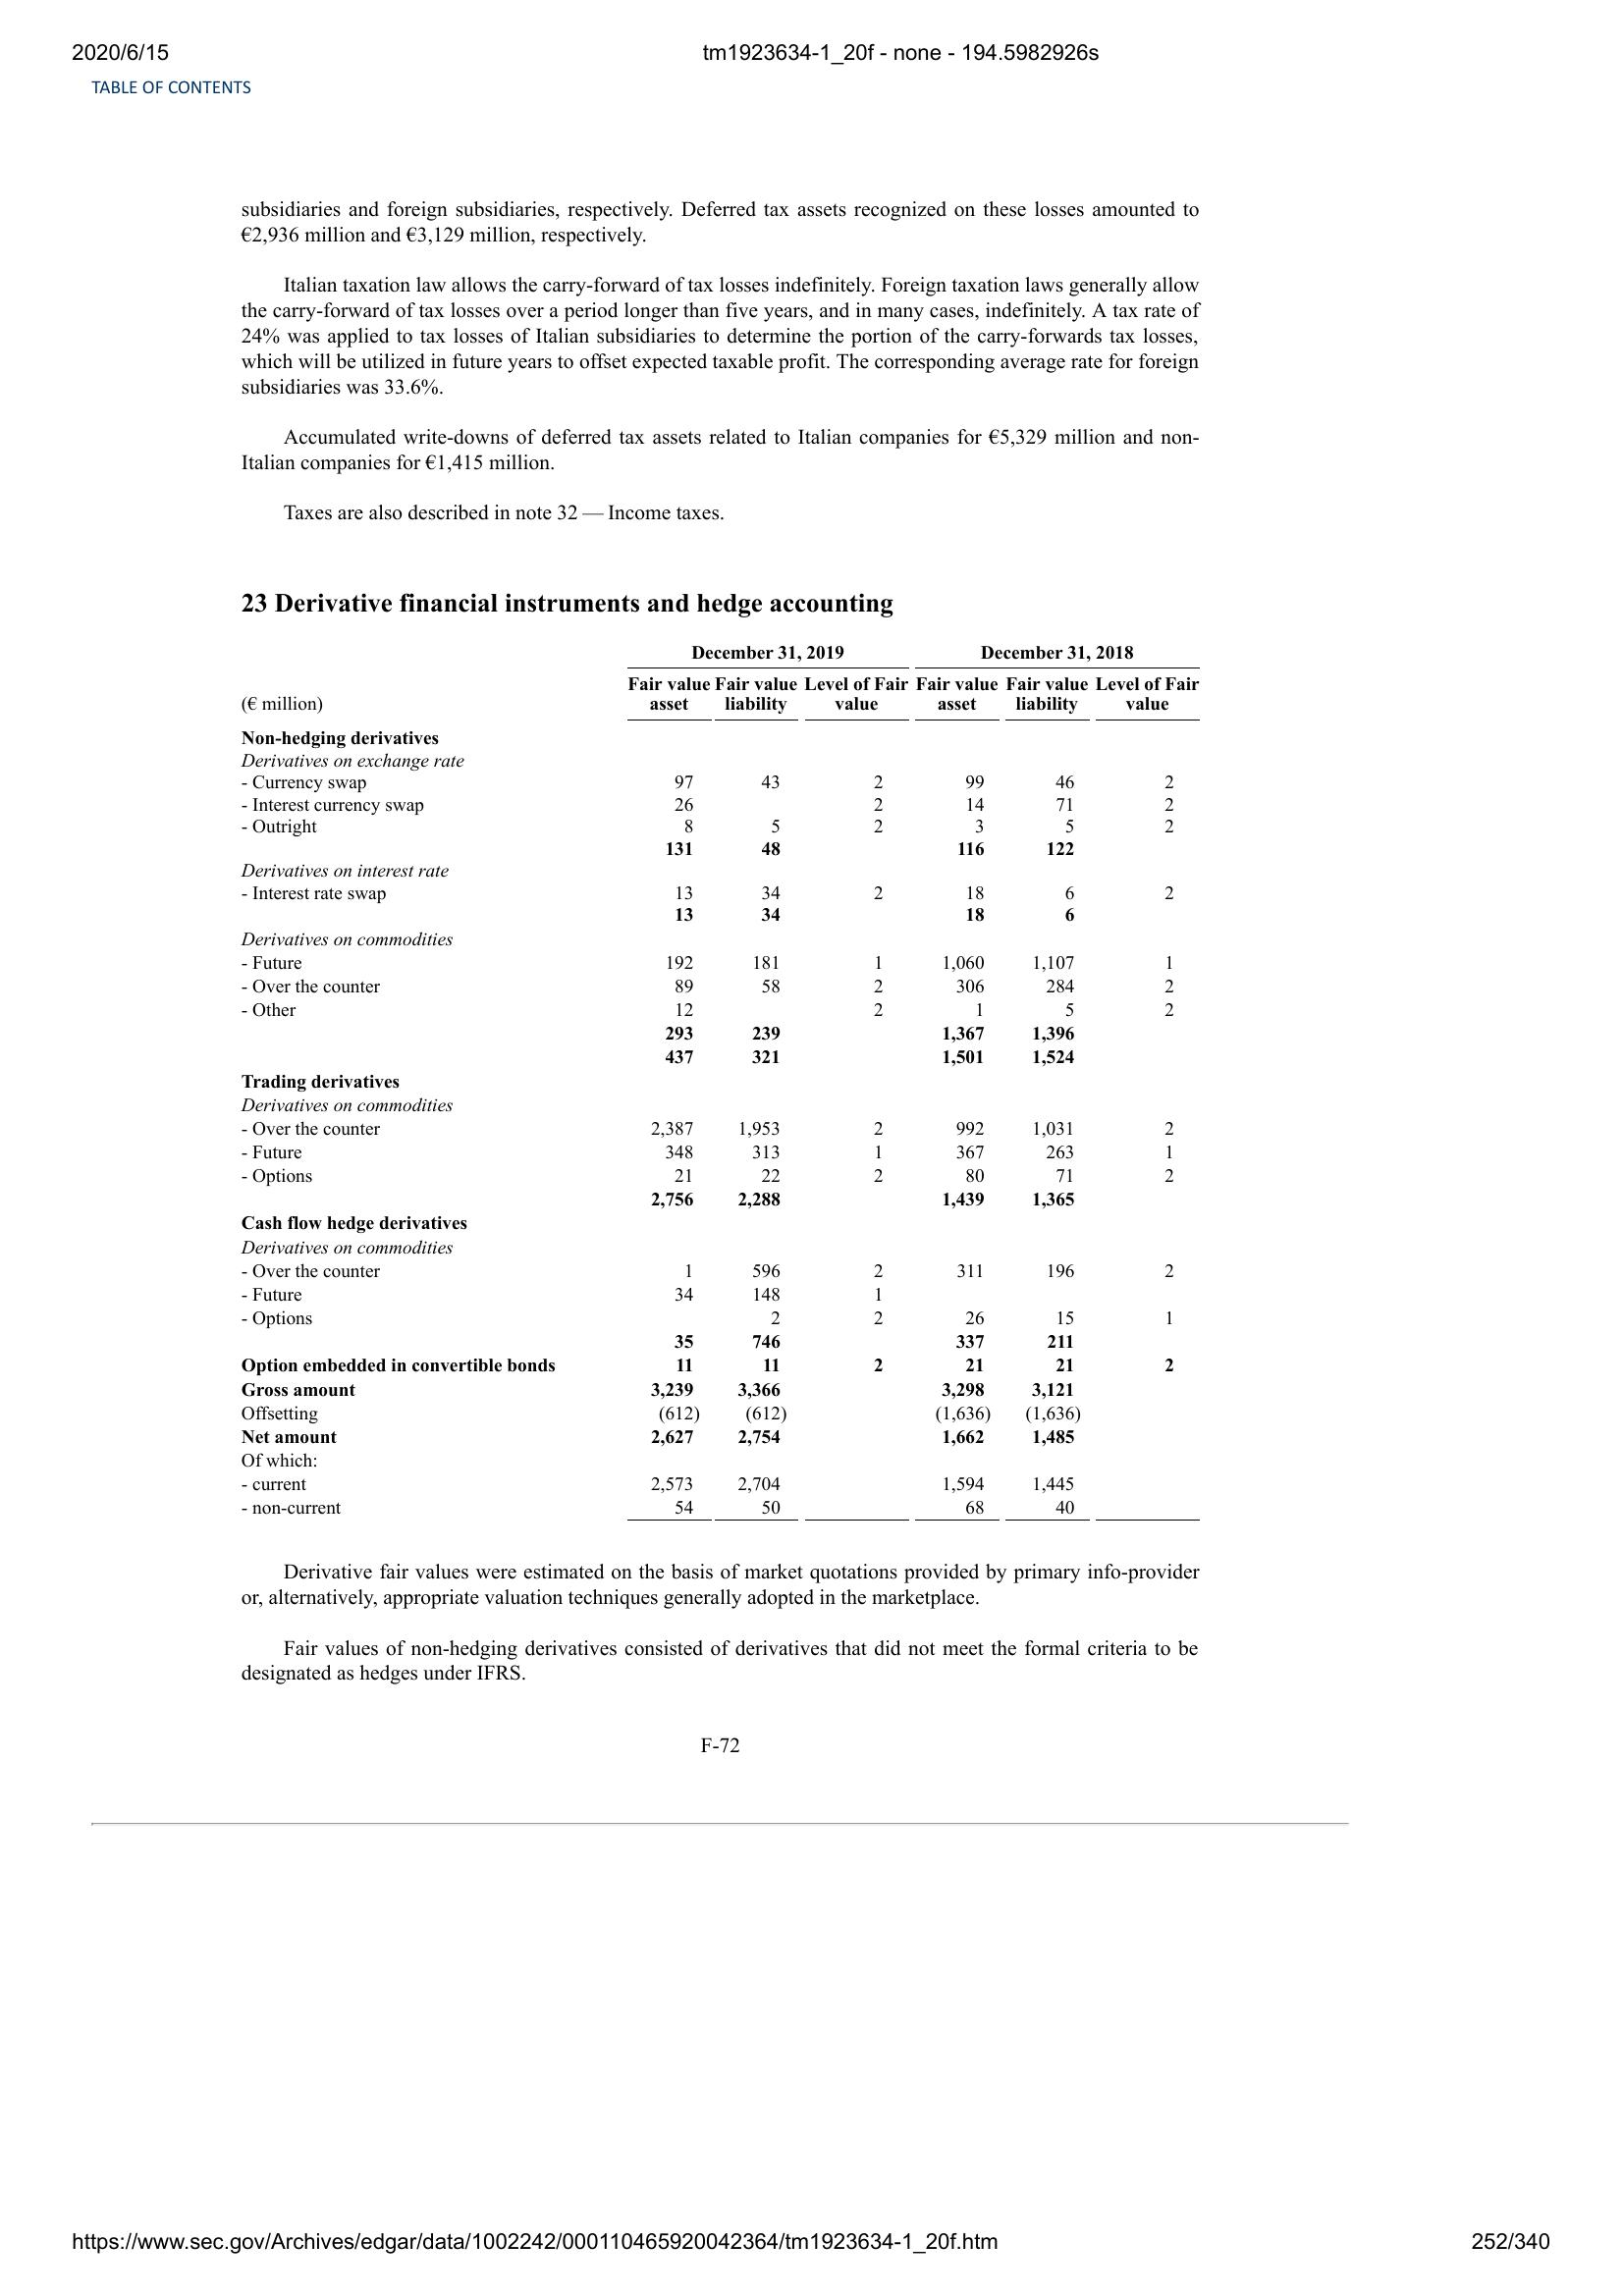table: (235, 641, 1203, 1527)
